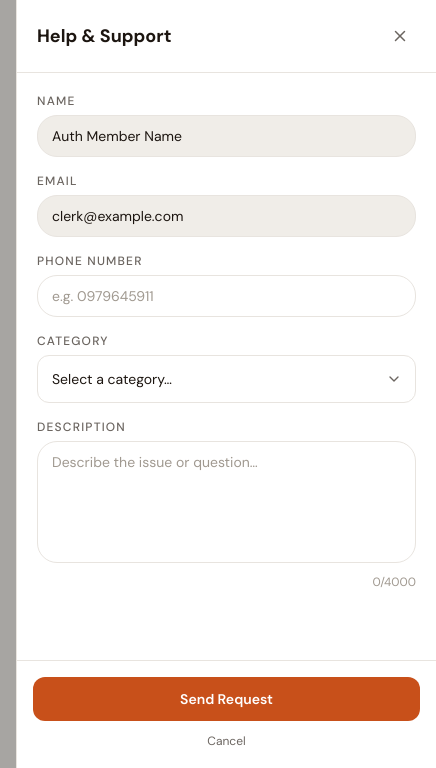
Test: SupportRequestDrawer › shows inline error when submitting with phone but no category
The width and height of the screenshot is (436, 768).
Type "0979645911" into the field with placeholder "e.g. 0979645911" at (226, 296), box [37, 275, 416, 317]
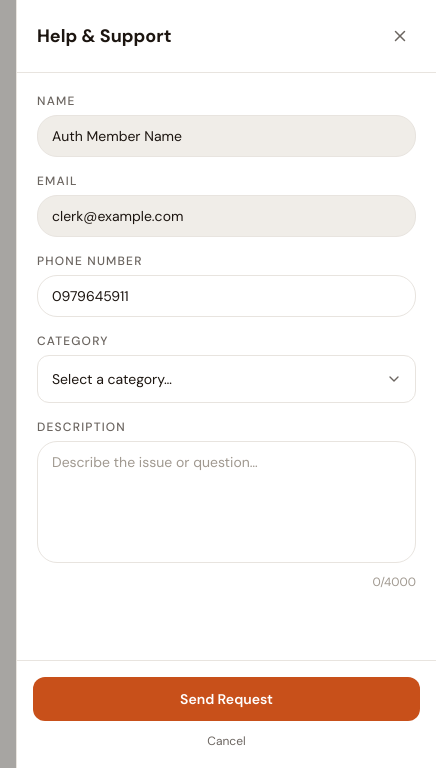
Submit the form with id "support-request-form", box [37, 93, 416, 590]
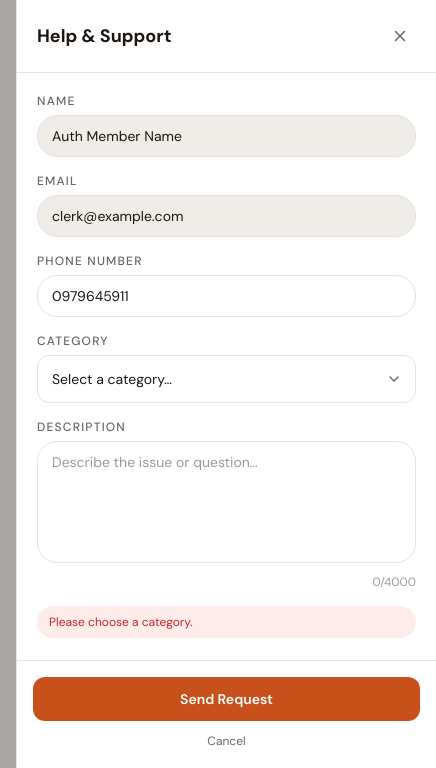
Result: the text "Please choose a category." is shown at [37, 606, 416, 638]
